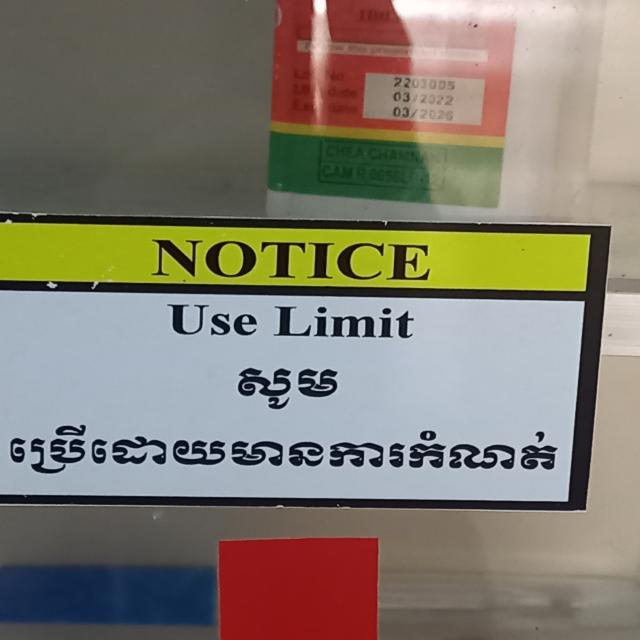Yolov11_80vkh: (9, 413, 569, 486), (230, 355, 348, 411)
